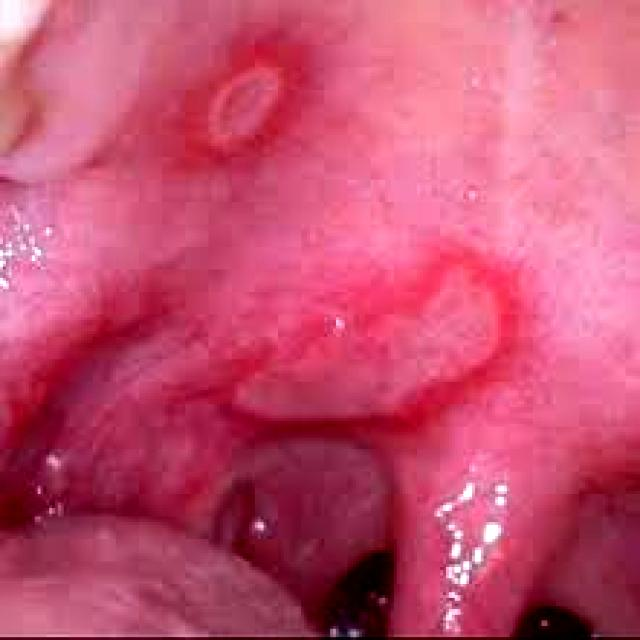ulcer: (223, 249, 514, 428), (209, 65, 281, 138)
